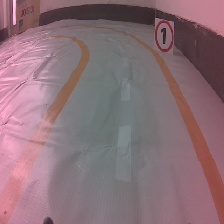limit: (153, 15, 177, 56)
